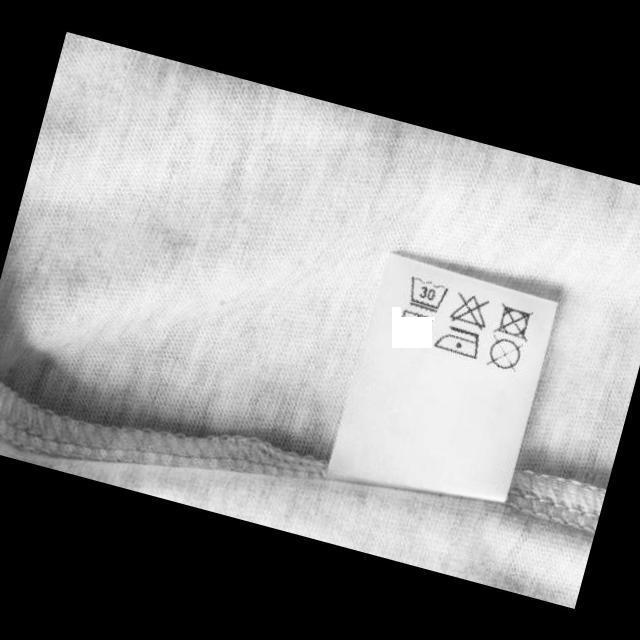30C: (401, 271, 452, 316)
DN_bleach: (445, 288, 494, 334)
DN_dry_clean: (481, 330, 528, 378)
DN_tumble_dry: (490, 298, 538, 344)
iron_low: (432, 320, 485, 360)
